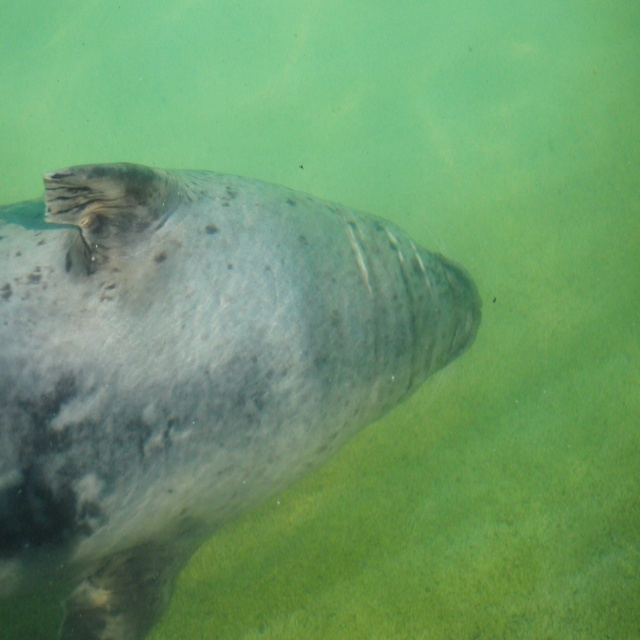Fish: (0, 161, 483, 638)
